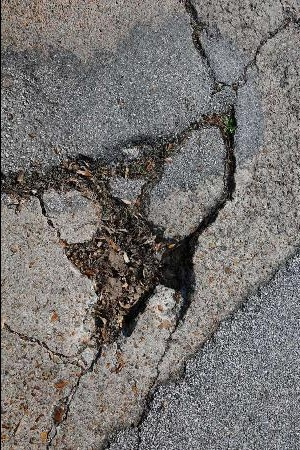pothole: (31, 102, 241, 347)
